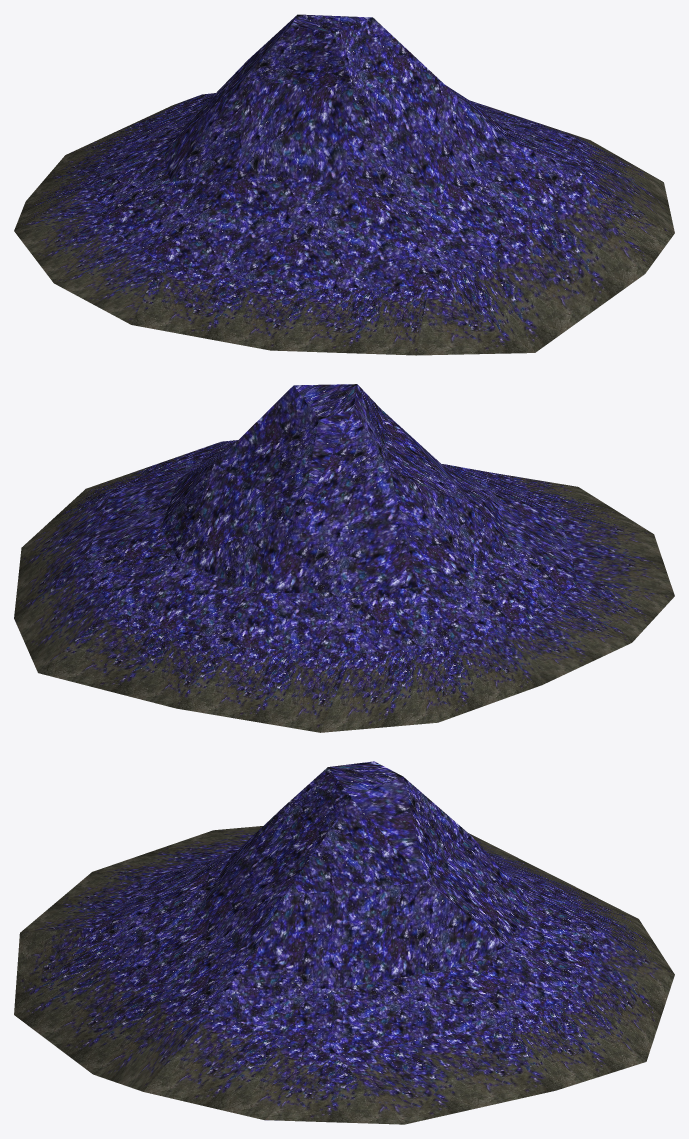
The model's file is GS_BERSERKER_NARCO.glb.
3 renders of one model, top to bottom at view 1: azimuth 30°, elevation 25°; view 2: azimuth 150°, elevation 25°; view 3: azimuth 270°, elevation 25°, orthographic. The views are drawn at different scales.
Parts seen in each view (by area): view 1: GS_BERSERKER_NARCO; view 2: GS_BERSERKER_NARCO; view 3: GS_BERSERKER_NARCO.
Boxes of the visible parts, left/top/right/bottom form: GS_BERSERKER_NARCO: left=14, top=14, right=674, bottom=355; GS_BERSERKER_NARCO: left=14, top=384, right=674, bottom=732; GS_BERSERKER_NARCO: left=14, top=761, right=674, bottom=1124.
Bounding box in the file's own units: 0.382 × 0.139 × 0.3721.
2 materials, 2 textured.
